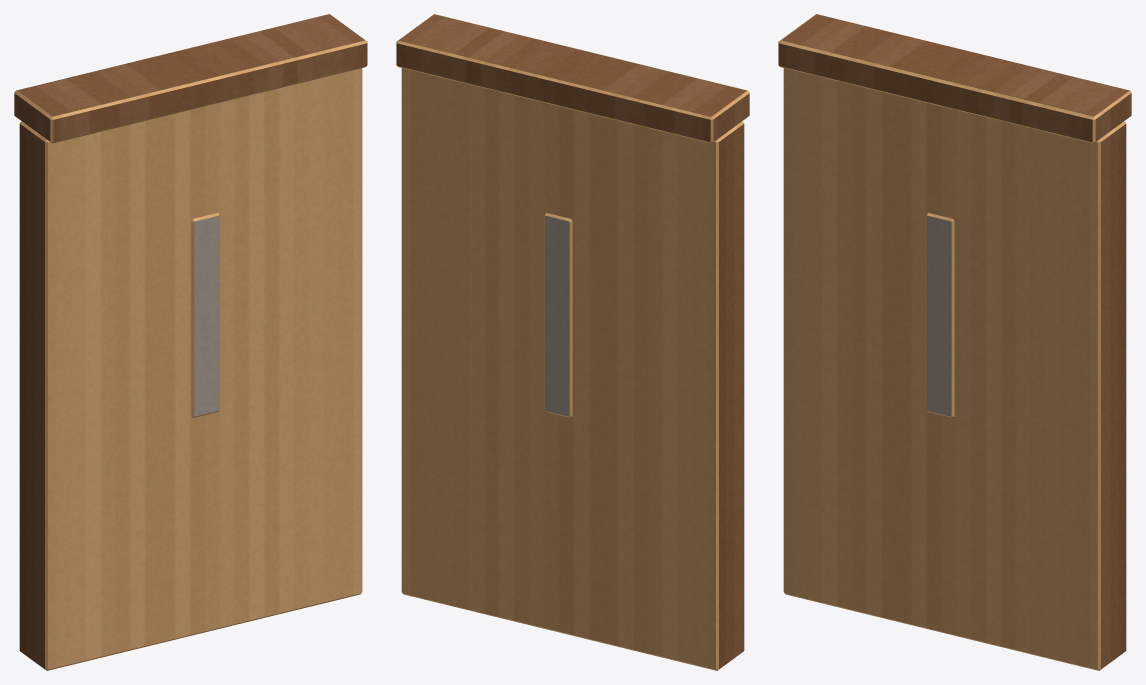
The model's file is sm_defense_wall_slit.glb.
3 views of the same model, side by side, from view 1: azimuth 30°, elevation 25°; view 2: azimuth 150°, elevation 25°; view 3: azimuth 330°, elevation 25° (orthographic).
Parts seen in each view (by area): view 1: sm_defense_wall_slit; view 2: sm_defense_wall_slit; view 3: sm_defense_wall_slit.
Boxes of the visible parts, x1,y1,x2,y2 form: sm_defense_wall_slit: [14, 14, 367, 670]; sm_defense_wall_slit: [396, 14, 749, 670]; sm_defense_wall_slit: [778, 14, 1131, 670].
Bounding box in the file's own units: 1 × 1.68 × 0.21.
Materials: 1 (1 with a texture image).
